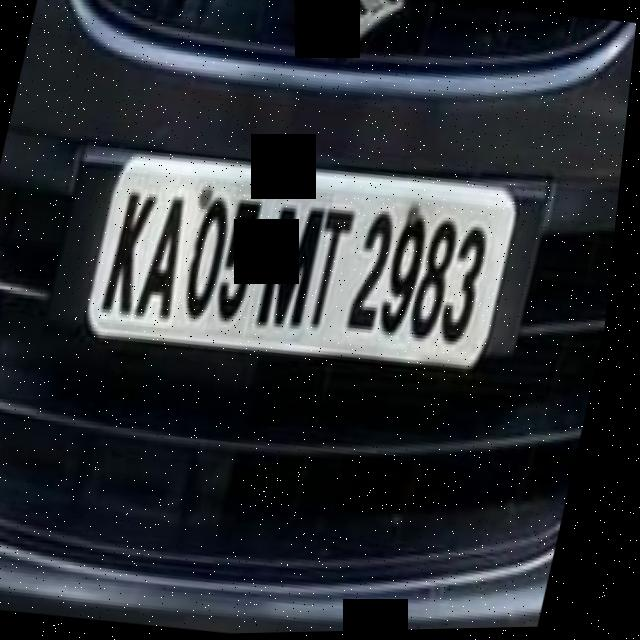0: (182, 187, 244, 325)
3: (439, 209, 507, 360)
5: (211, 184, 280, 338)
8: (413, 217, 469, 353)
9: (382, 202, 441, 347)
A: (135, 186, 206, 330)
K: (101, 189, 161, 322)
M: (251, 188, 339, 346)
T: (308, 193, 368, 337)
